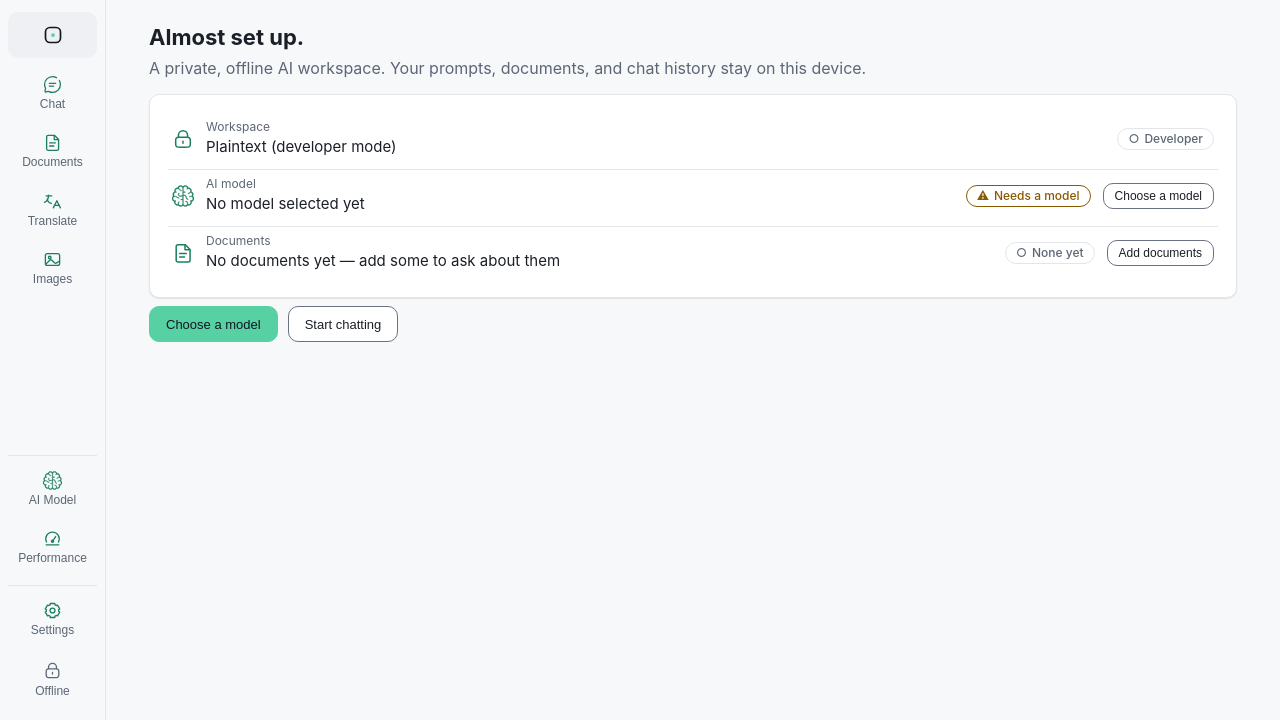
Test case: App shell: three rail groups, Home behind the brand mark (rail rework 2026-09-05) › the rail brand lockup is a real Home button, not a dead click (issue #47)
The image size is (1280, 720).
Click the button "AI Model" at (52, 489), box [8,462,97,516]
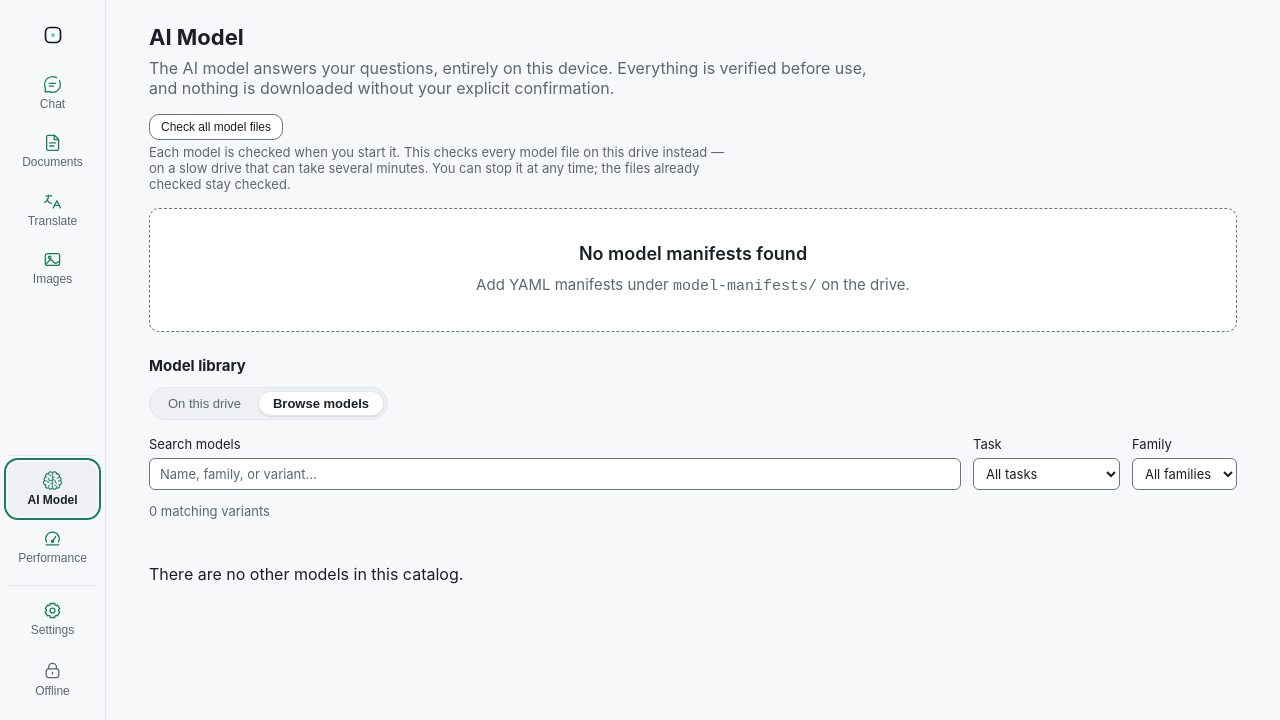
expect the heading "AI Model" is shown: met, box [149,24,244,50]
Click the button named "HilbertRaum — Home" at (52, 35), box [8,12,97,58]
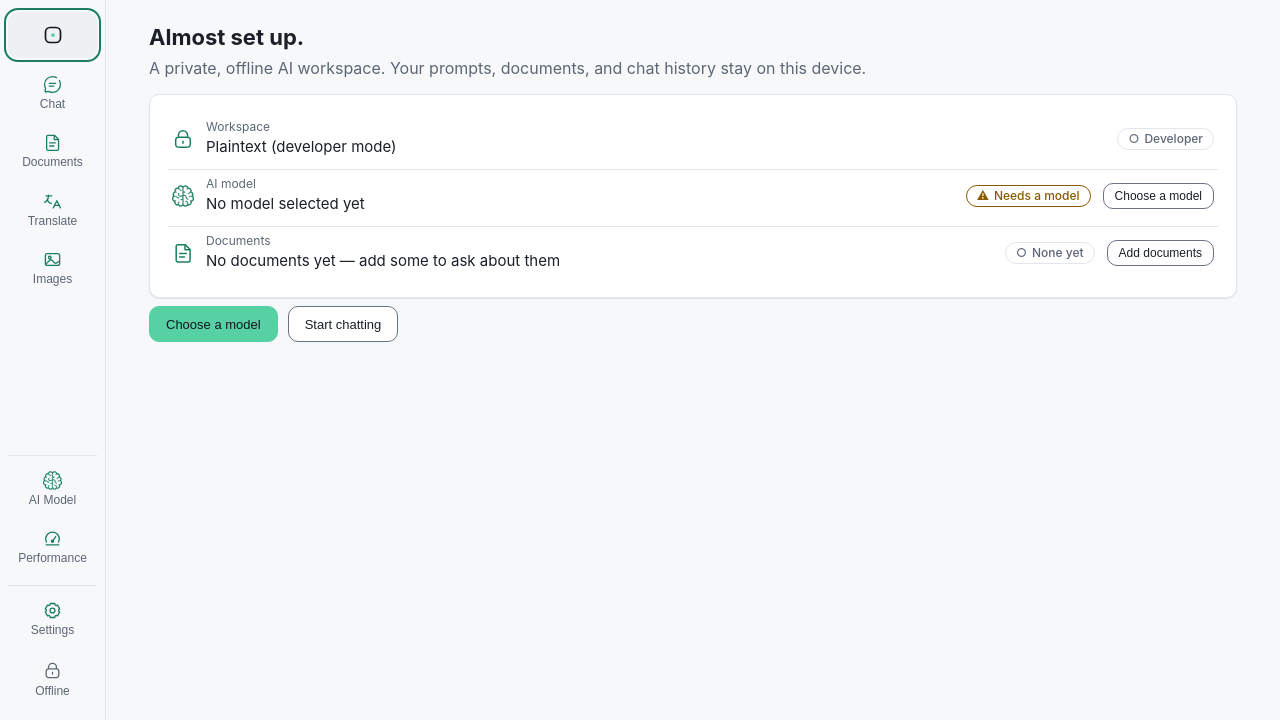
expect the heading "Almost set up." is shown: met, box [149,24,304,50]
